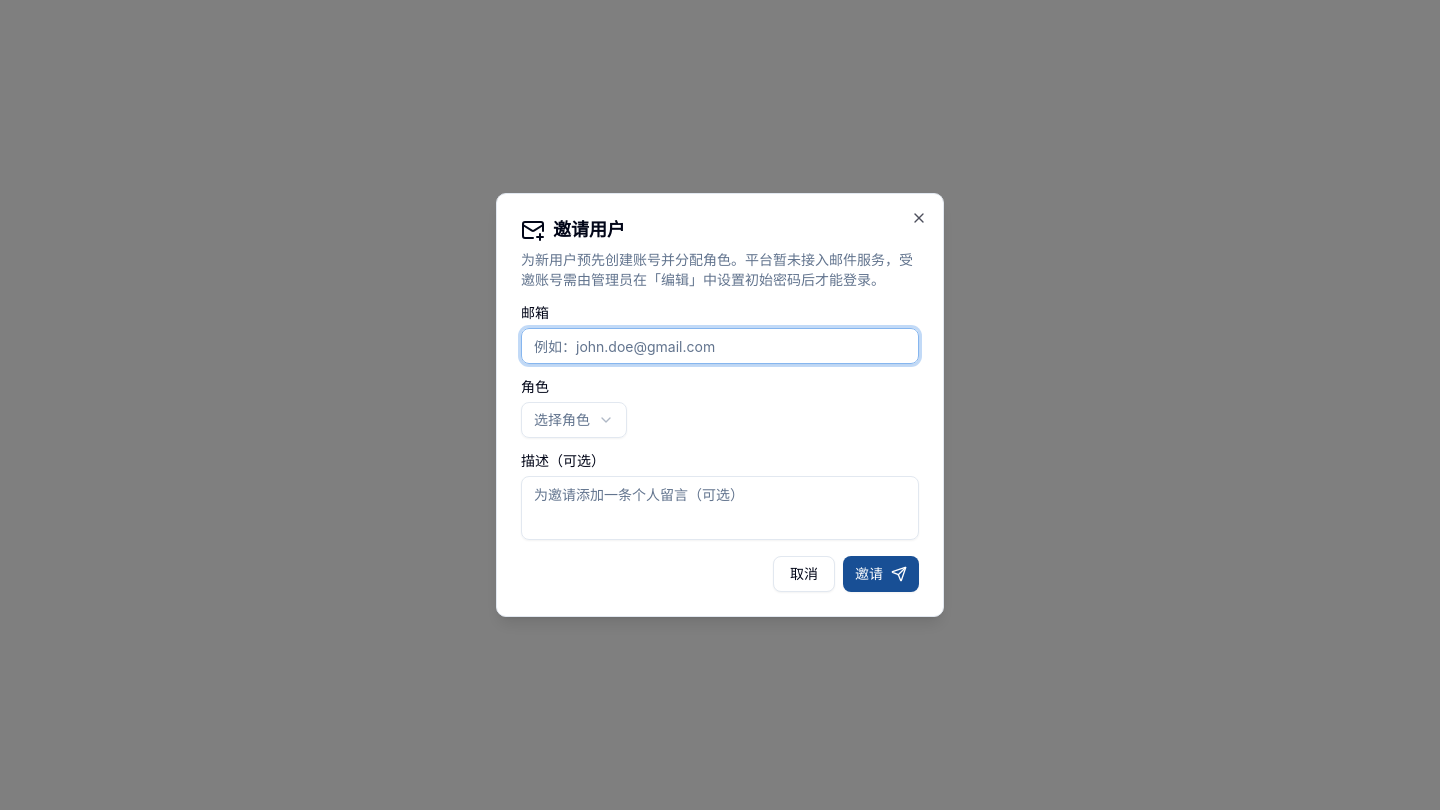
Test: UsersInviteDialog › shows error messages for an empty form
Click the button "邀请": (881, 574) [843,556,919,592]
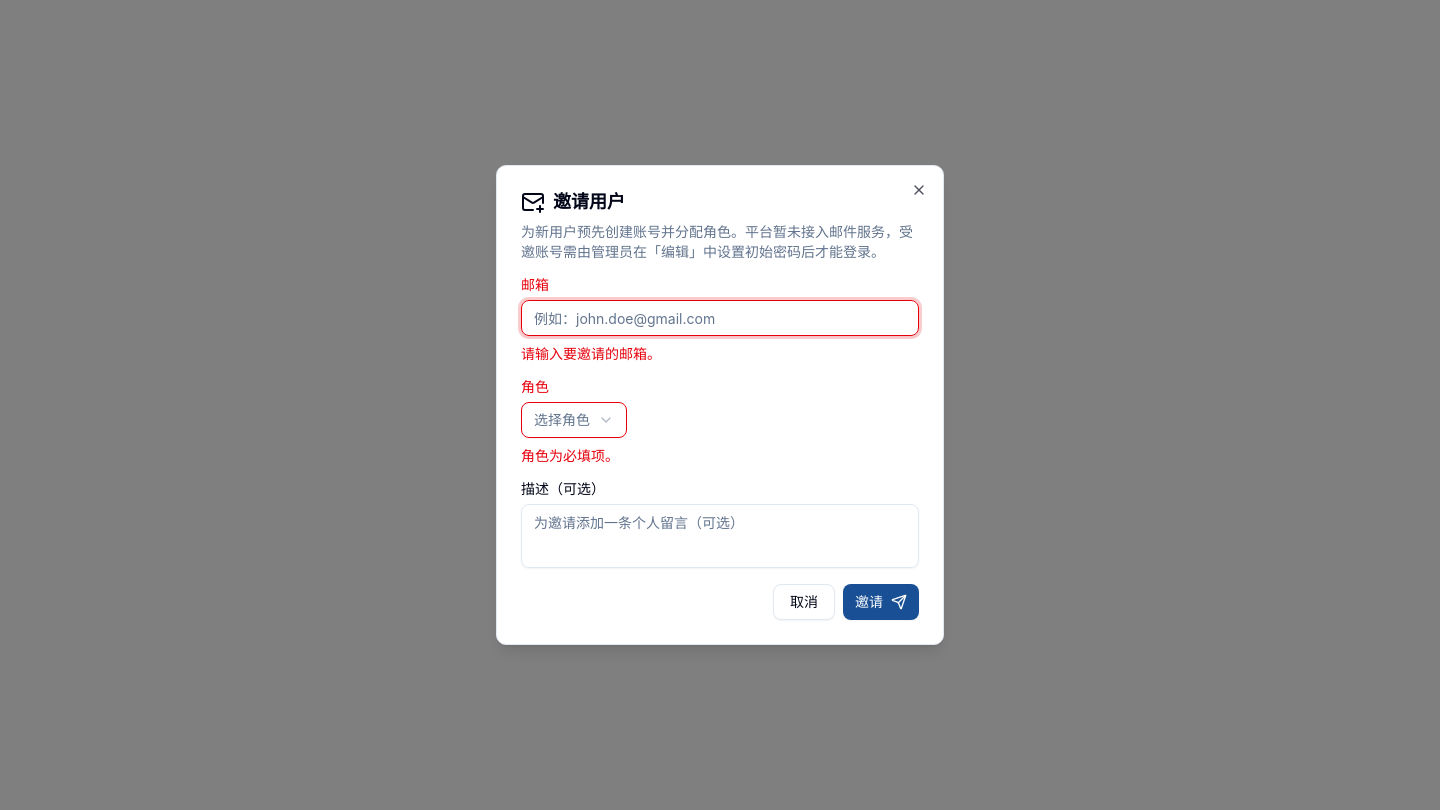
Now the text "请输入要邀请的邮箱。" is shown, box [521,345,661,362]
Now the text "角色为必填项。" is shown, box [521,447,619,464]
